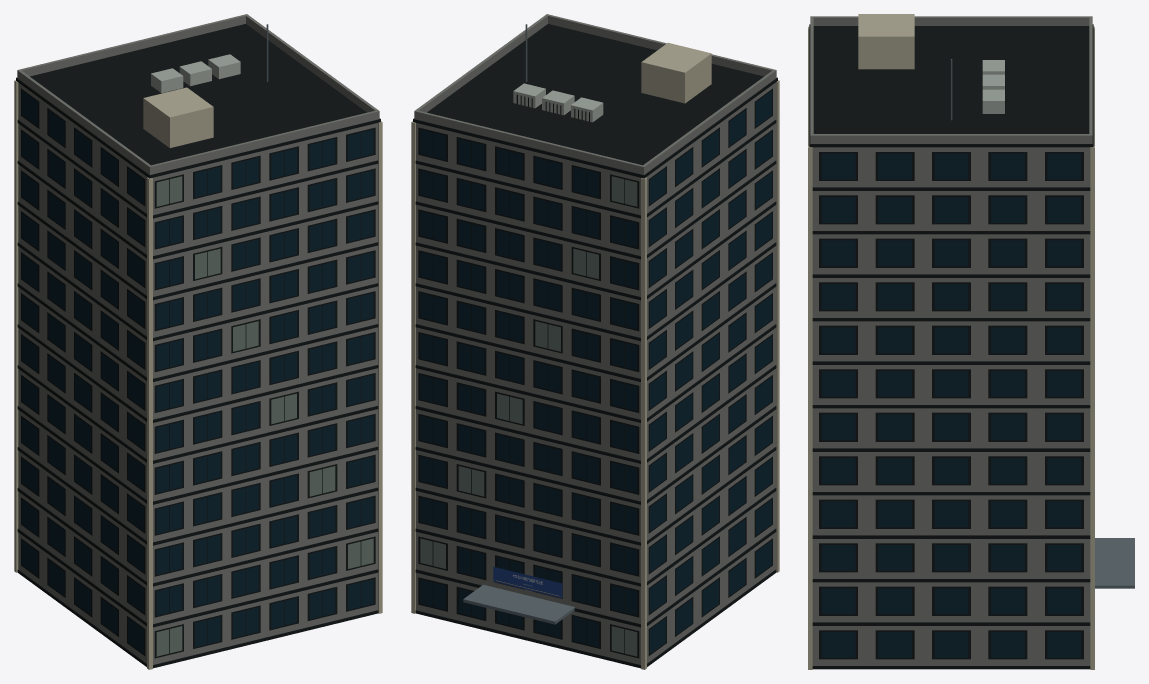
The model's file is office_tower.obj.
3 renders of one model, left to right at view 1: azimuth 30°, elevation 25°; view 2: azimuth 150°, elevation 25°; view 3: azimuth 270°, elevation 25°, orthographic. The views are drawn at different scales.
Parts seen in each view (by area): view 1: Concrete, Dark_Frame, Window_Glass, Warm_Plaster, Window_Light, AC_White; view 2: Concrete, Dark_Frame, Window_Glass, Warm_Plaster, Window_Light, Metal_Silver, AC_White, Sign_Atlas; view 3: Concrete, Dark_Frame, Window_Glass, Warm_Plaster, Metal_Silver, AC_White.
Part boxes in pixels (<box>): Concrete: <box>17,14,379,664</box>; Dark_Frame: <box>16,24,380,668</box>; Window_Glass: <box>22,91,373,653</box>; Warm_Plaster: <box>14,80,382,669</box>; Window_Light: <box>156,176,373,656</box>; AC_White: <box>151,54,240,93</box>; Concrete: <box>414,14,776,664</box>; Dark_Frame: <box>413,24,777,668</box>; Window_Glass: <box>420,91,771,653</box>; Warm_Plaster: <box>411,42,779,669</box>; Window_Light: <box>420,176,637,656</box>; Metal_Silver: <box>463,24,574,624</box>; AC_White: <box>513,83,603,122</box>; Sign_Atlas: <box>493,566,562,598</box>; Concrete: <box>810,16,1092,665</box>; Dark_Frame: <box>809,24,1093,669</box>; Window_Glass: <box>821,153,1081,657</box>; Warm_Plaster: <box>808,14,1094,669</box>; Metal_Silver: <box>950,59,1134,588</box>; AC_White: <box>982,60,1004,113</box>.
Bounding box in the file's own units: 20.33 × 45.8 × 23.16.
